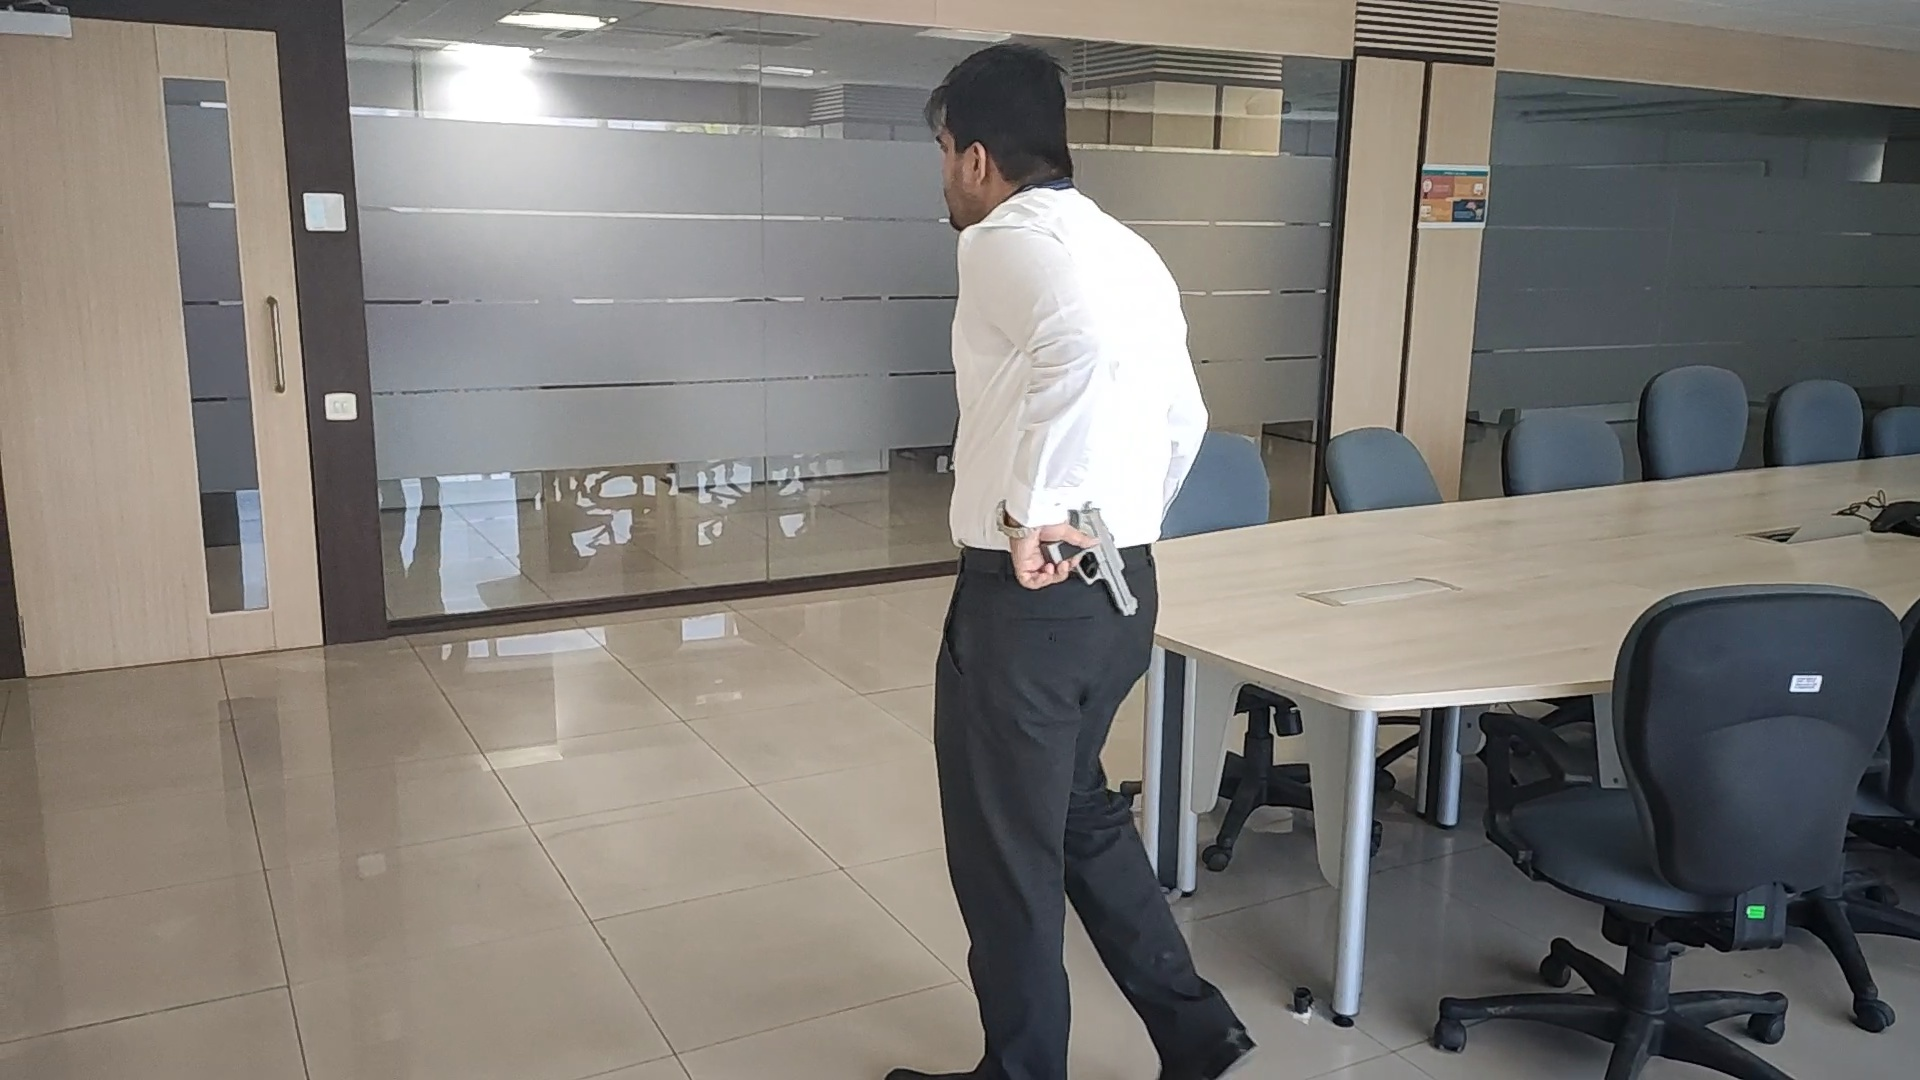gun: (1048, 502, 1139, 615)
